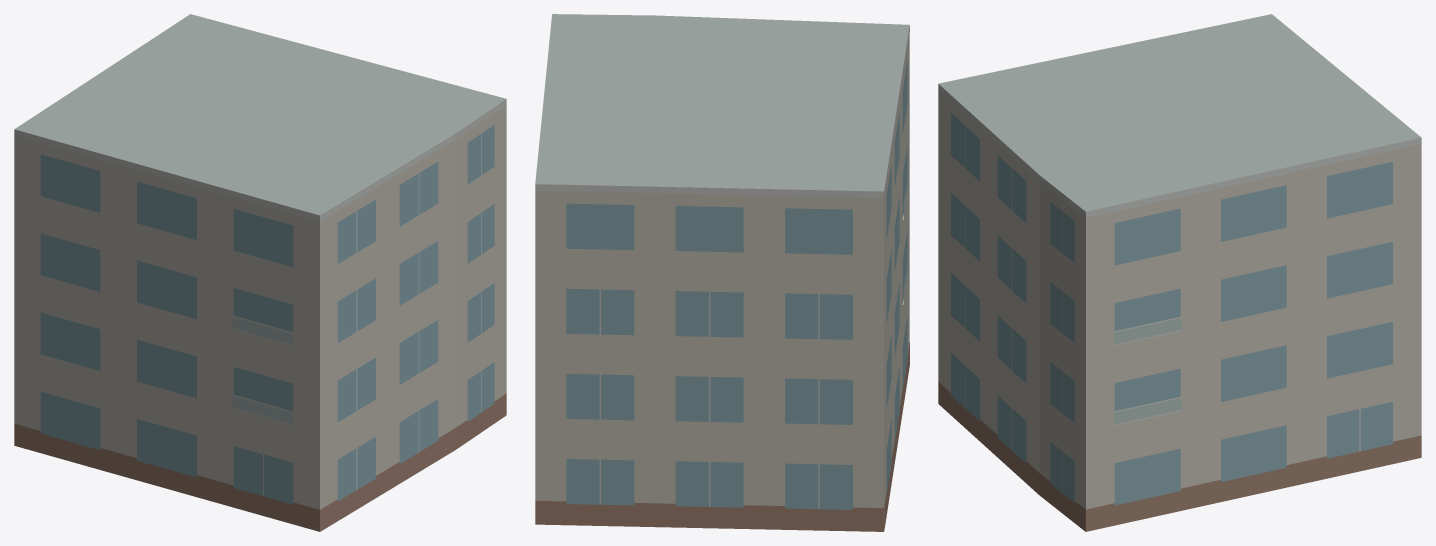
The model's file is survey-upis-32741621.glb.
The picture shows the model from 3 angles, left to right: view 1: azimuth 30°, elevation 25°; view 2: azimuth 150°, elevation 25°; view 3: azimuth 270°, elevation 25°; orthographic projection. The views are drawn at different scales.
Visible parts, largest first — view 1: survey-upis-32741621.tmp; view 2: survey-upis-32741621.tmp; view 3: survey-upis-32741621.tmp.
Part boxes in pixels (x1,y1,x2,y2): survey-upis-32741621.tmp: (14, 14, 506, 531); survey-upis-32741621.tmp: (535, 14, 909, 531); survey-upis-32741621.tmp: (938, 14, 1421, 531).
Size of the model in its own units: 16.7 by 12.6 by 17.25.
